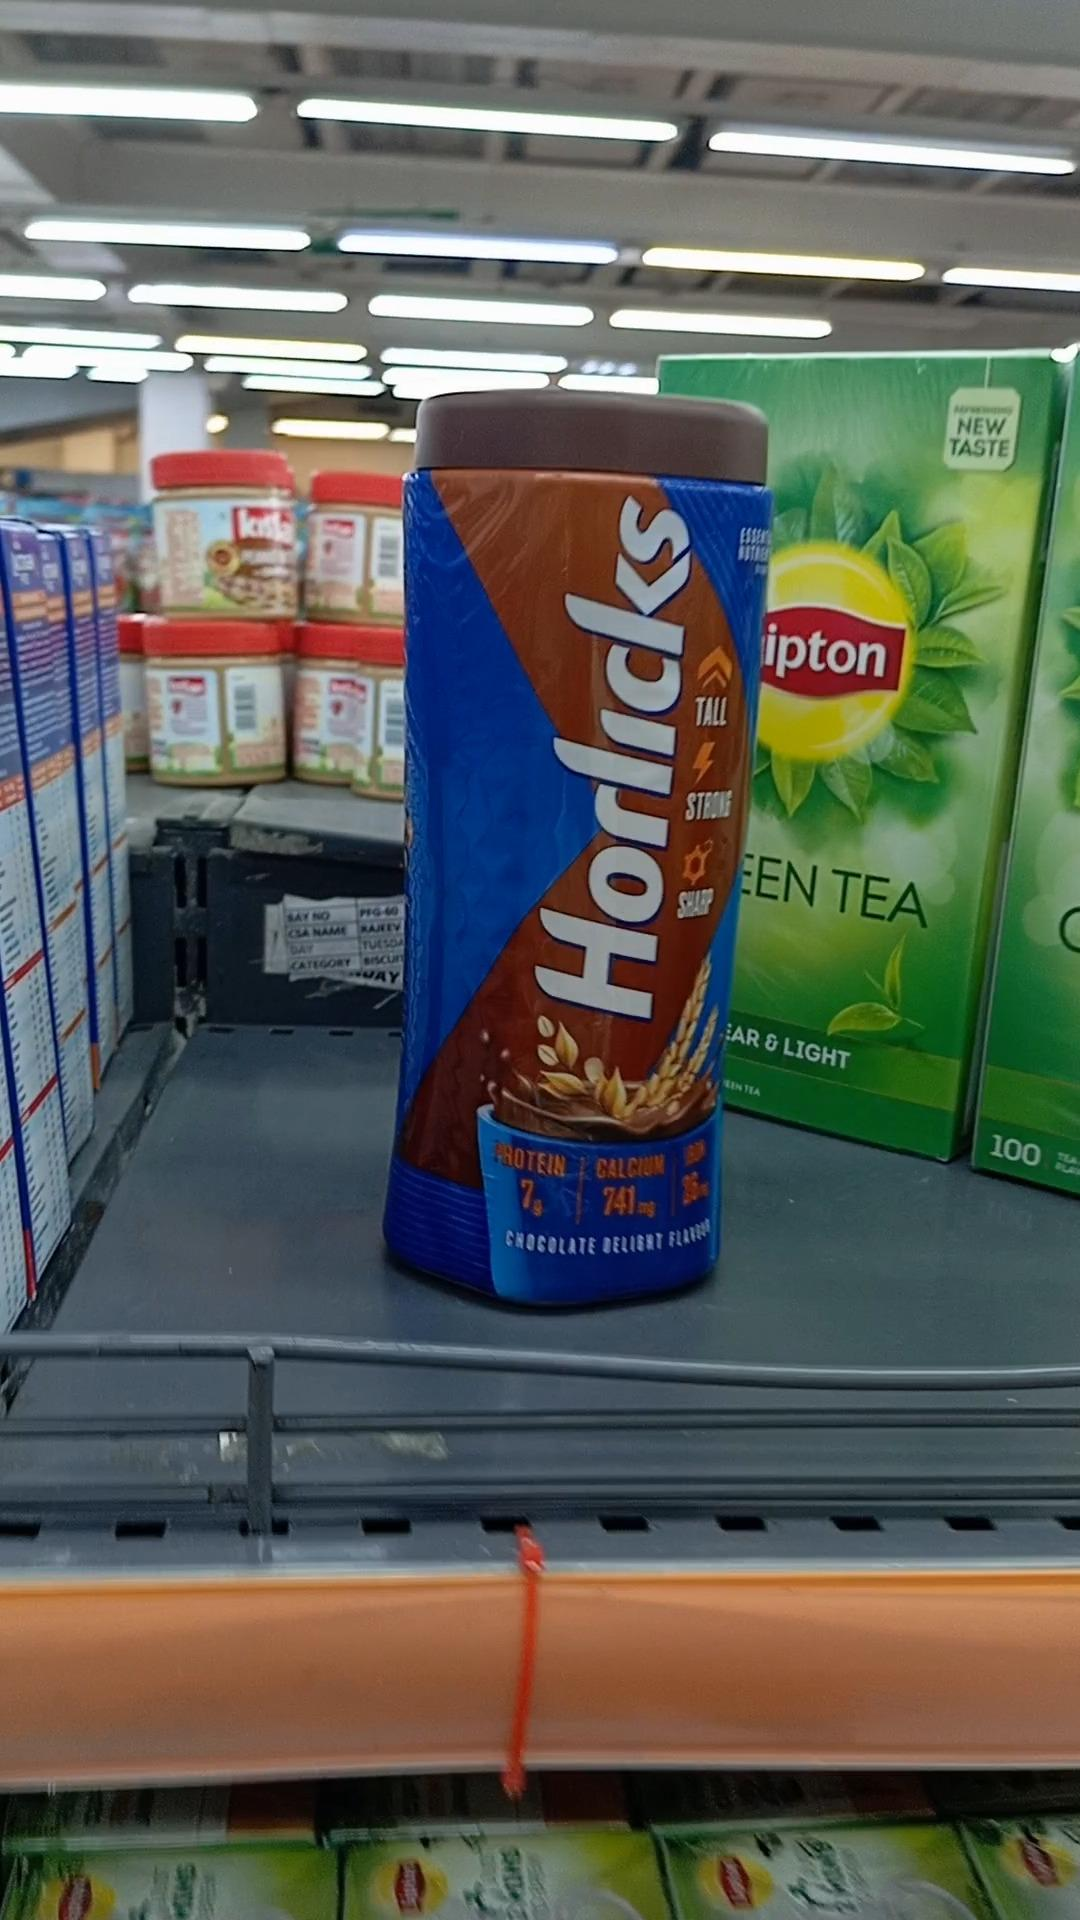HORLICK_CHOCOLATE_1_KG_JAR: (396, 396, 761, 1308)
